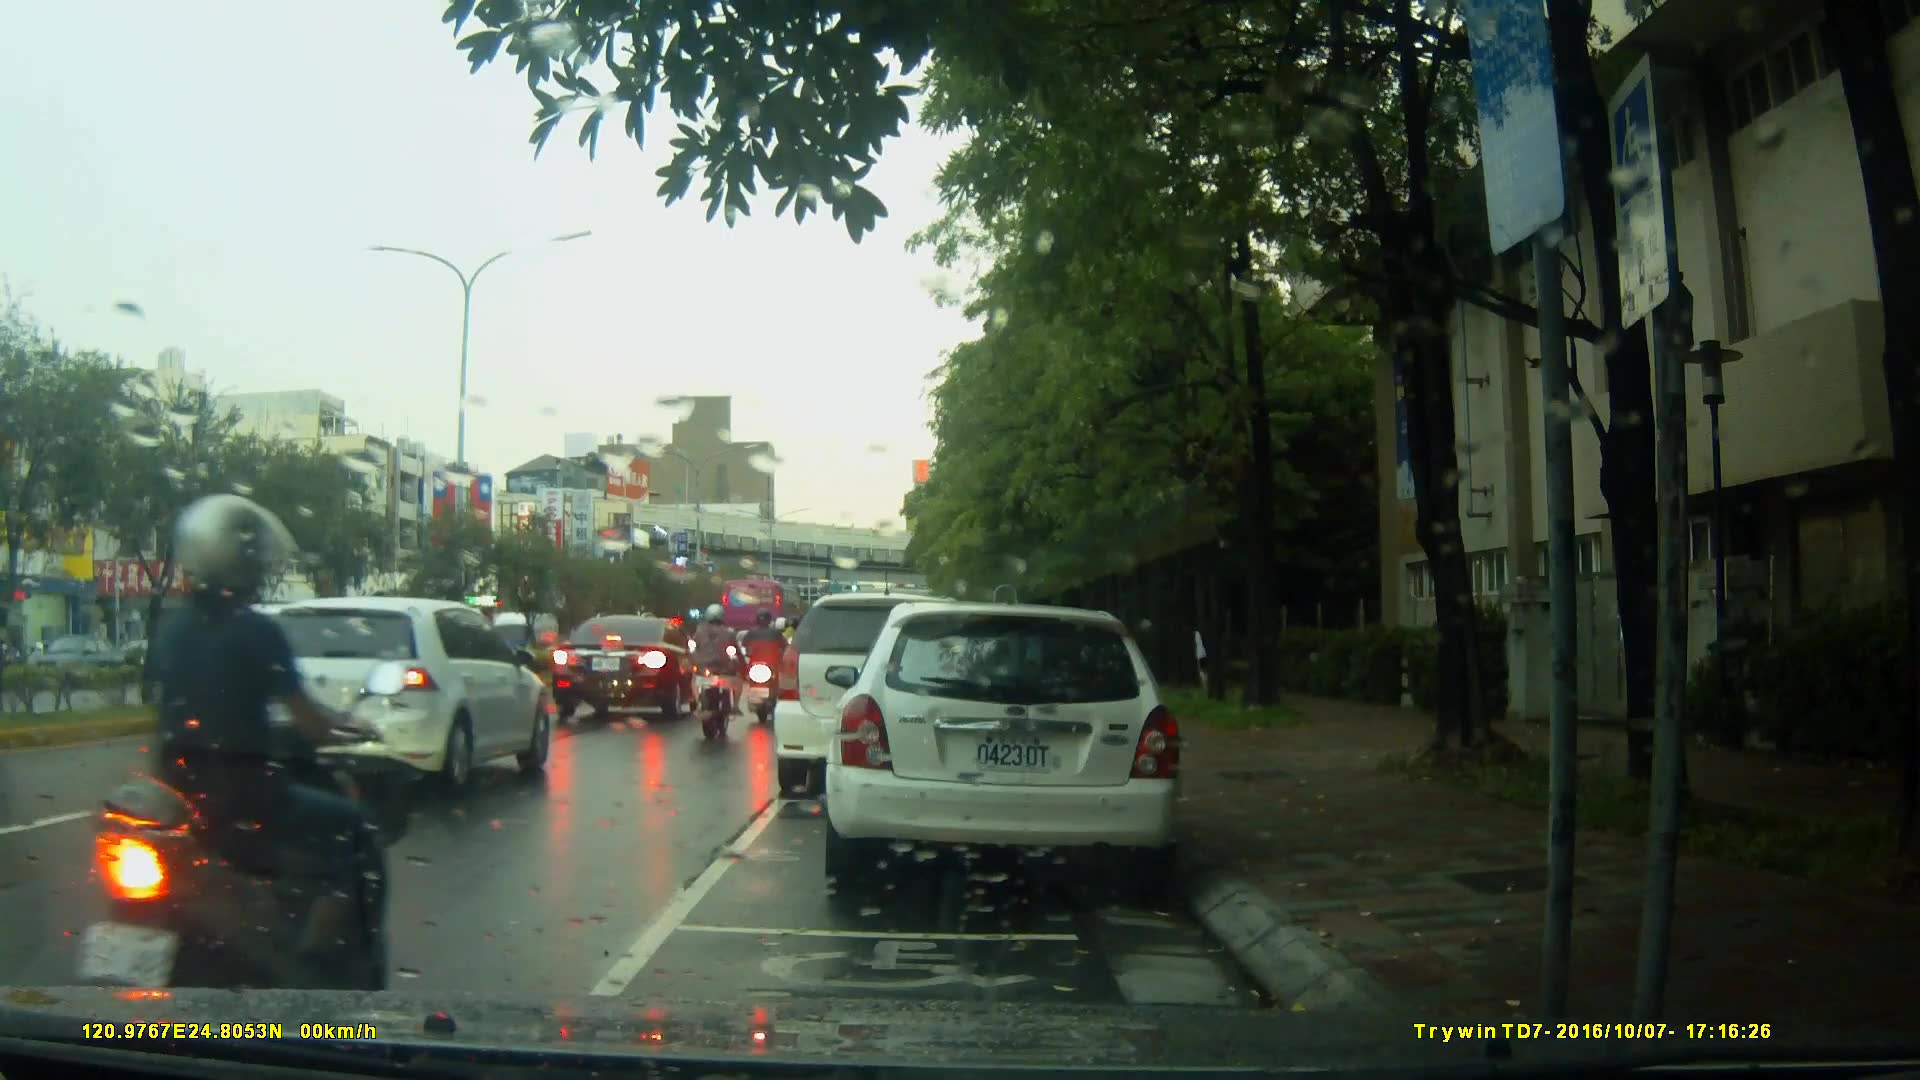rider: (77, 496, 393, 1030), (688, 603, 745, 748), (741, 605, 791, 728)
vehicle: (835, 594, 1194, 898), (227, 592, 551, 800), (776, 590, 1026, 784), (546, 612, 710, 726), (719, 578, 805, 648)
